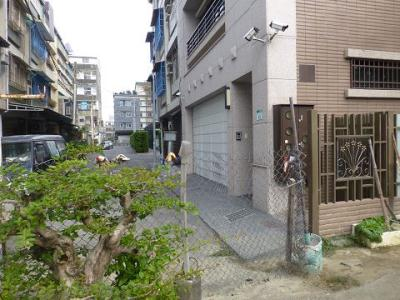bucket: (293, 230, 322, 276), (173, 272, 202, 300)
styrofoam: (350, 216, 400, 251)
